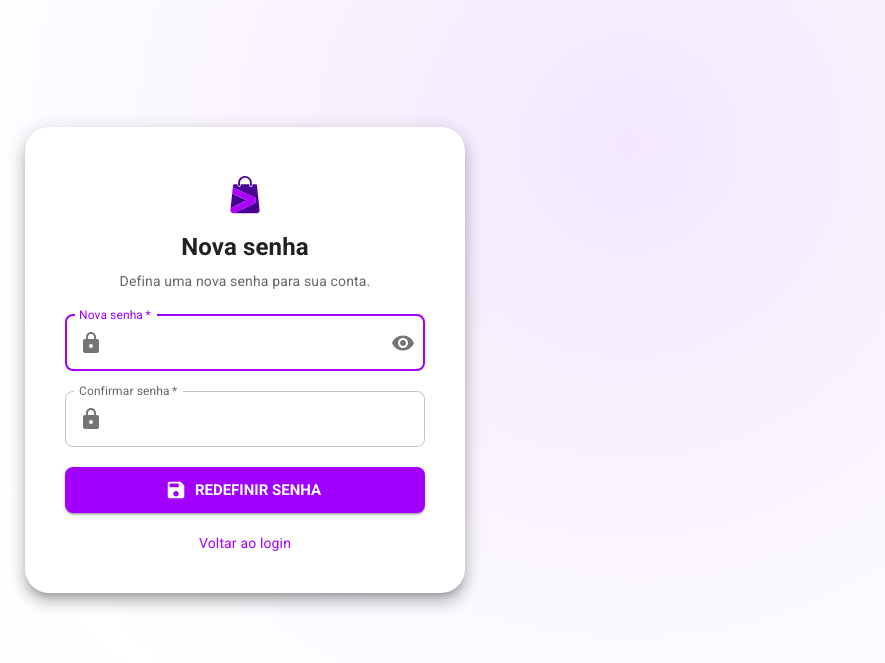
ResetPassword › valida senha curta
This screenshot has width=885, height=663.
In the password field labelled "Nova senha *": (243, 343) [111, 315, 375, 371], type "123"
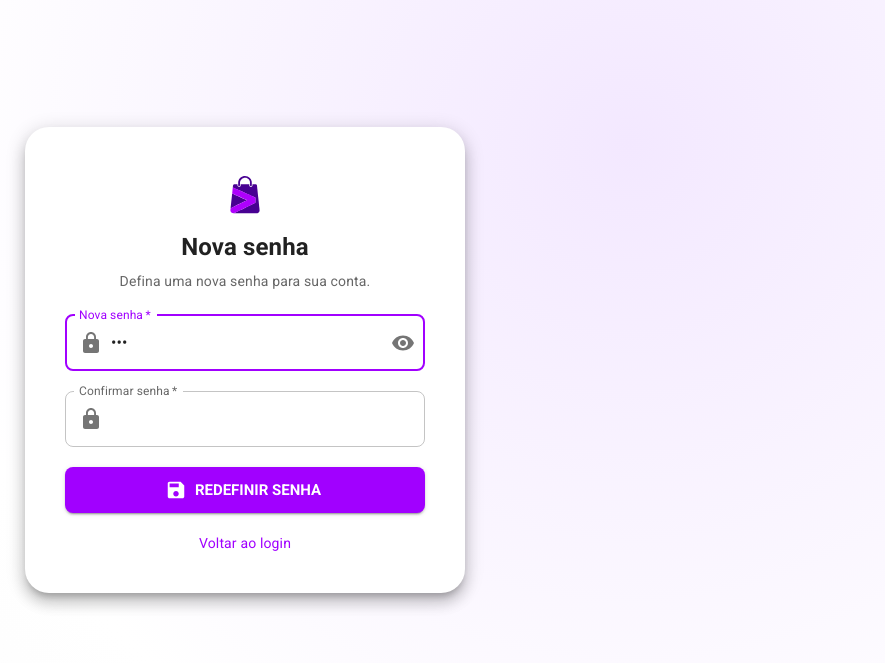
In the password field labelled "Confirmar senha *": (268, 419) [111, 391, 425, 447], type "123"
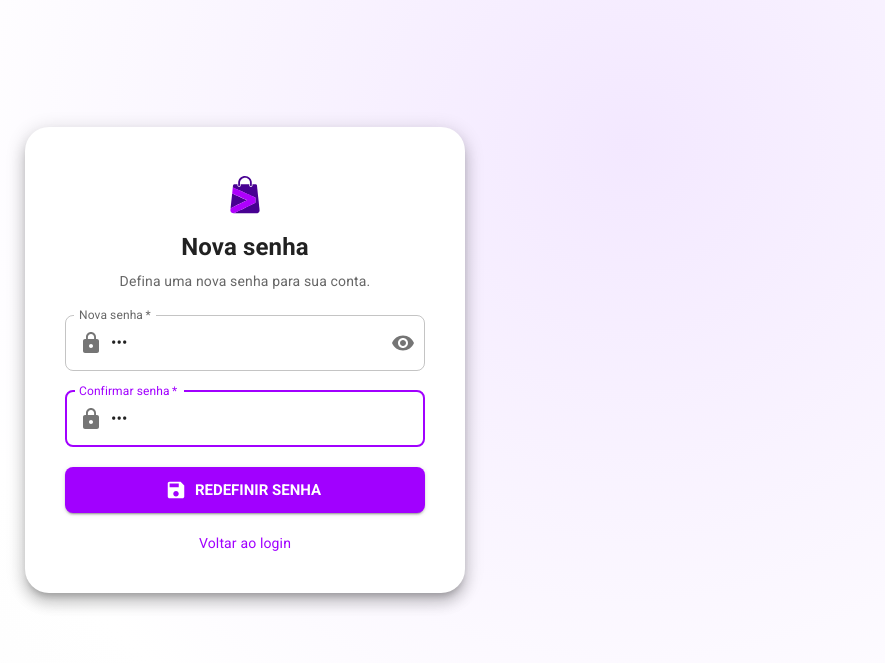
Click the button "Redefinir senha": click(245, 490) [65, 467, 425, 513]
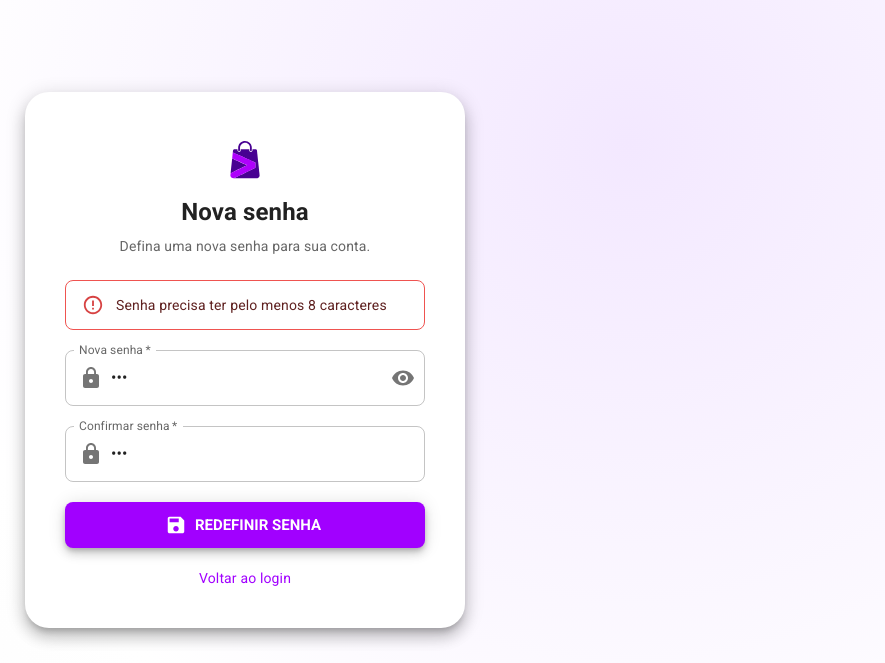
Expected: the text "Senha precisa ter pelo menos 8 caracteres" is shown, [116, 297, 387, 313]
